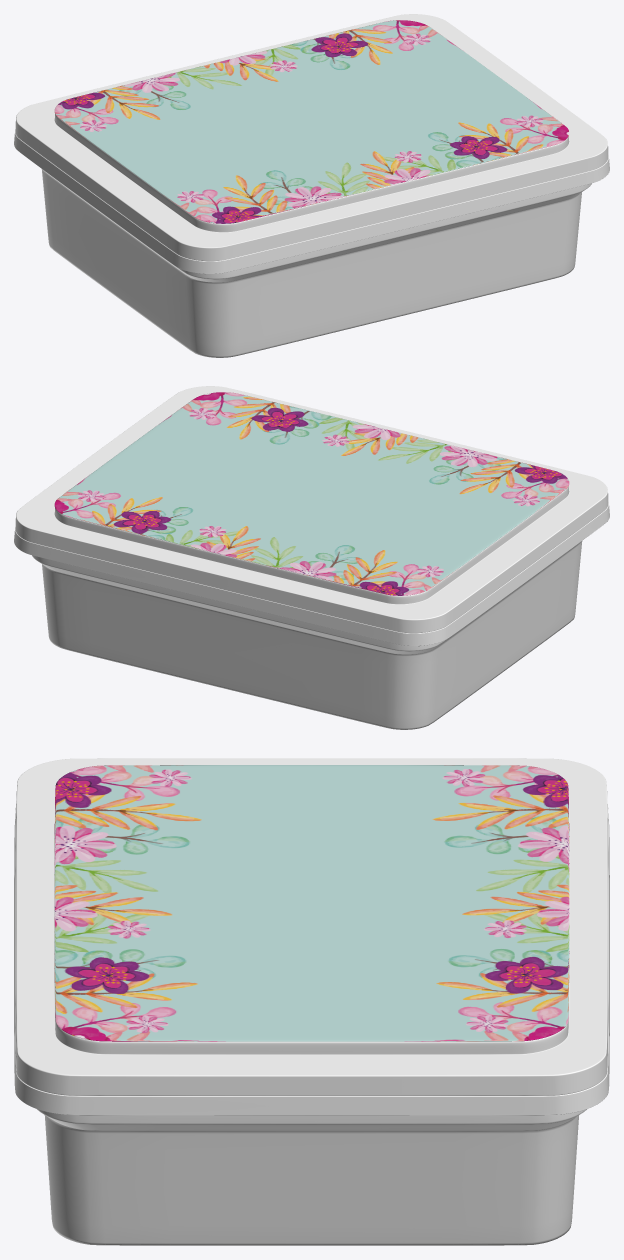
The picture shows the model from 3 angles, top to bottom: view 1: azimuth 30°, elevation 25°; view 2: azimuth 150°, elevation 25°; view 3: azimuth 270°, elevation 25°; orthographic projection. The views are drawn at different scales.
Visible parts, largest first — view 1: Plane007, Plane, Plane006; view 2: Plane007, Plane, Plane006; view 3: Plane007, Plane006, Plane.
Part boxes in pixels (x1,y1,x2,y2): Plane007: (54,20,569,223); Plane: (41,169,591,357); Plane006: (14,14,609,273); Plane007: (54,392,569,595); Plane: (32,541,582,729); Plane006: (14,386,609,645); Plane007: (54,765,569,1041); Plane006: (14,758,609,1115); Plane: (37,1109,586,1245).
Bounding box in the file's own units: 0.1495 × 0.044 × 0.1177.
4 materials, 2 textured.
